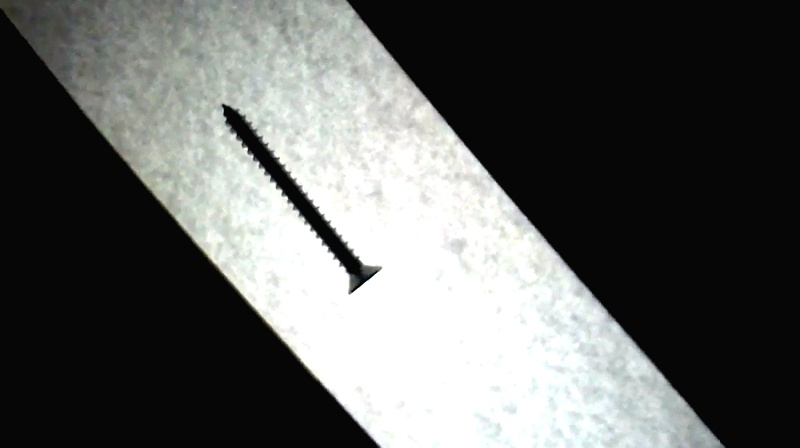S002: (215, 98, 387, 297)
